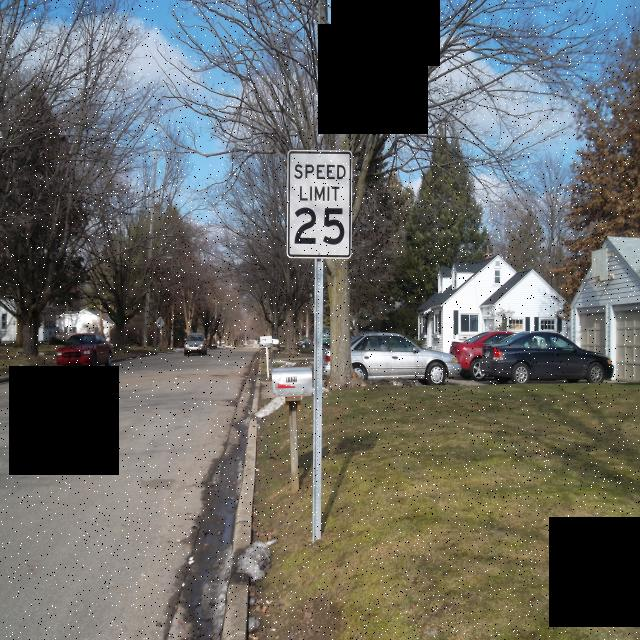regulatory: (288, 148, 351, 262)
